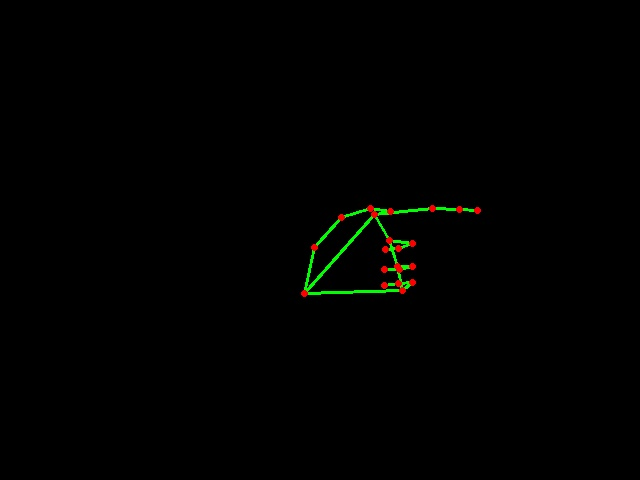left: (285, 174, 493, 316)
